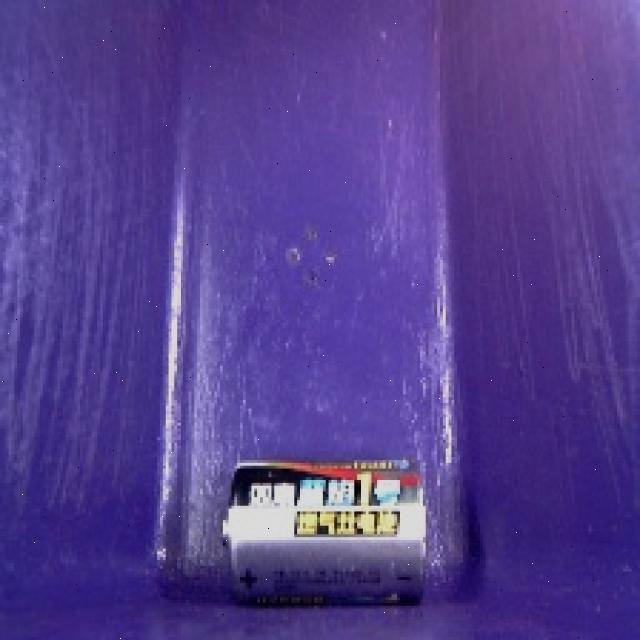battery: (212, 447, 434, 616)
